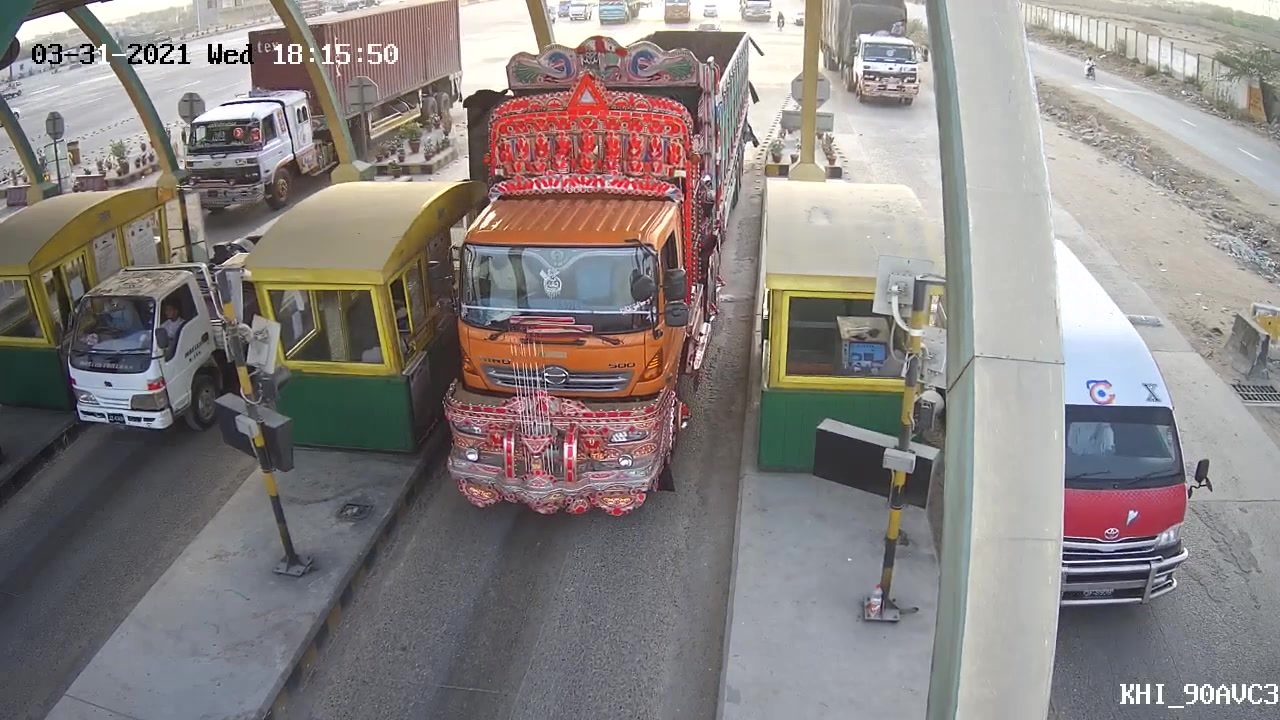F5: (433, 42, 733, 525)
